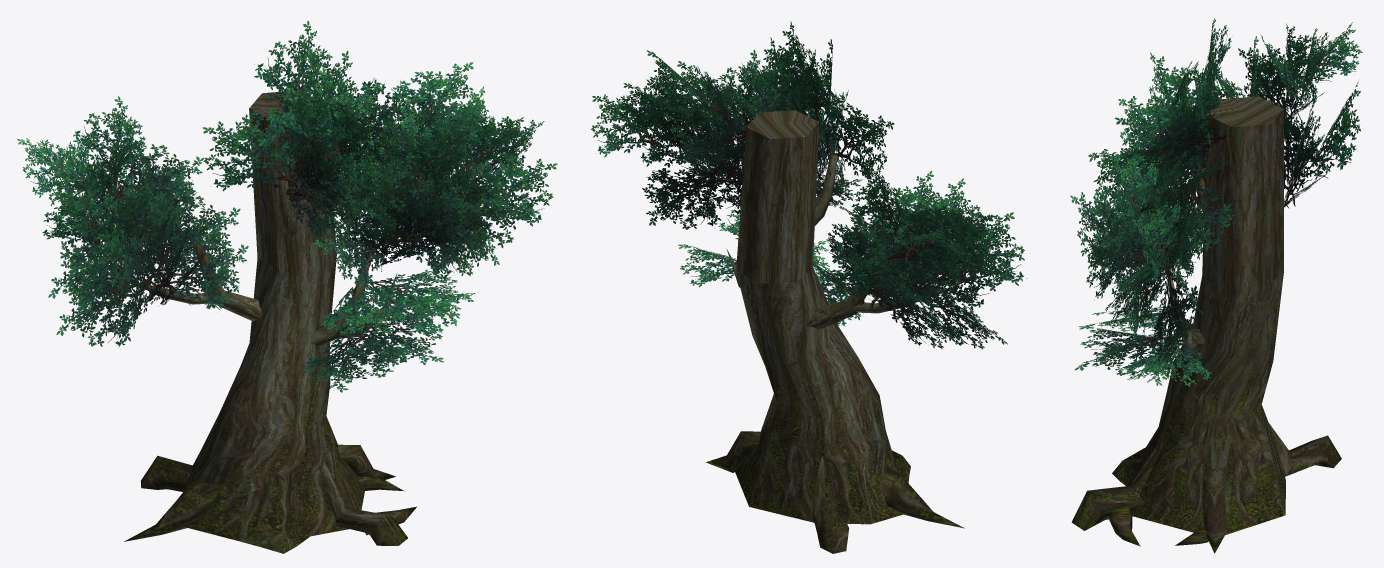
File: yw_museyulin_dashu01.FBX
The picture shows the model from 3 angles, left to right: view 1: azimuth 30°, elevation 25°; view 2: azimuth 150°, elevation 25°; view 3: azimuth 270°, elevation 25°; orthographic projection. The views are drawn at different scales.
Parts seen in each view (by area): view 1: yw_museyulin_dashu01; view 2: yw_museyulin_dashu01; view 3: yw_museyulin_dashu01.
Part boxes in pixels (x1,y1,x2,y2): yw_museyulin_dashu01: (17, 21, 557, 553); yw_museyulin_dashu01: (591, 21, 1027, 553); yw_museyulin_dashu01: (1070, 18, 1362, 553).
Size of the model in its own units: 1774 by 1746 by 958.
